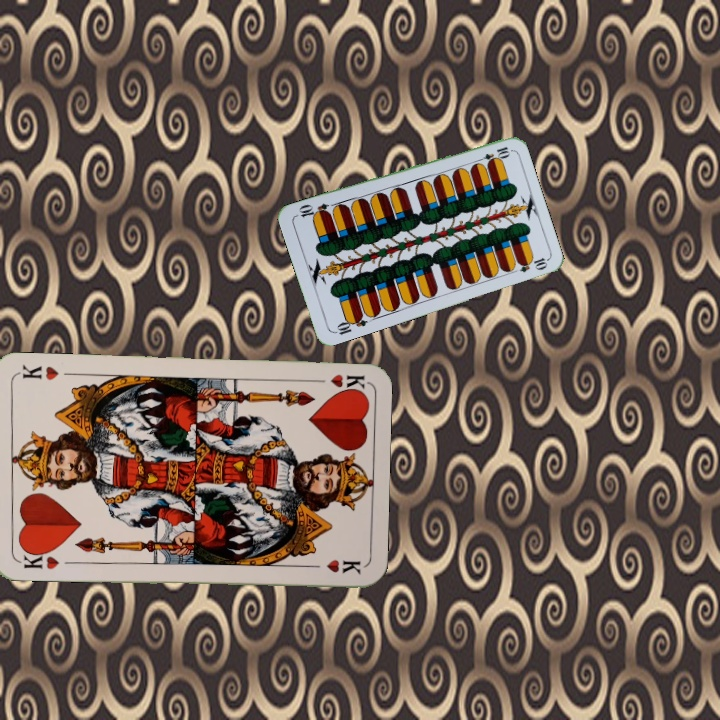E10: (330, 310, 370, 337), (472, 142, 512, 166)
HK: (307, 370, 366, 395), (12, 545, 61, 572)
